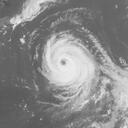cyclone: (38, 31, 99, 99)
